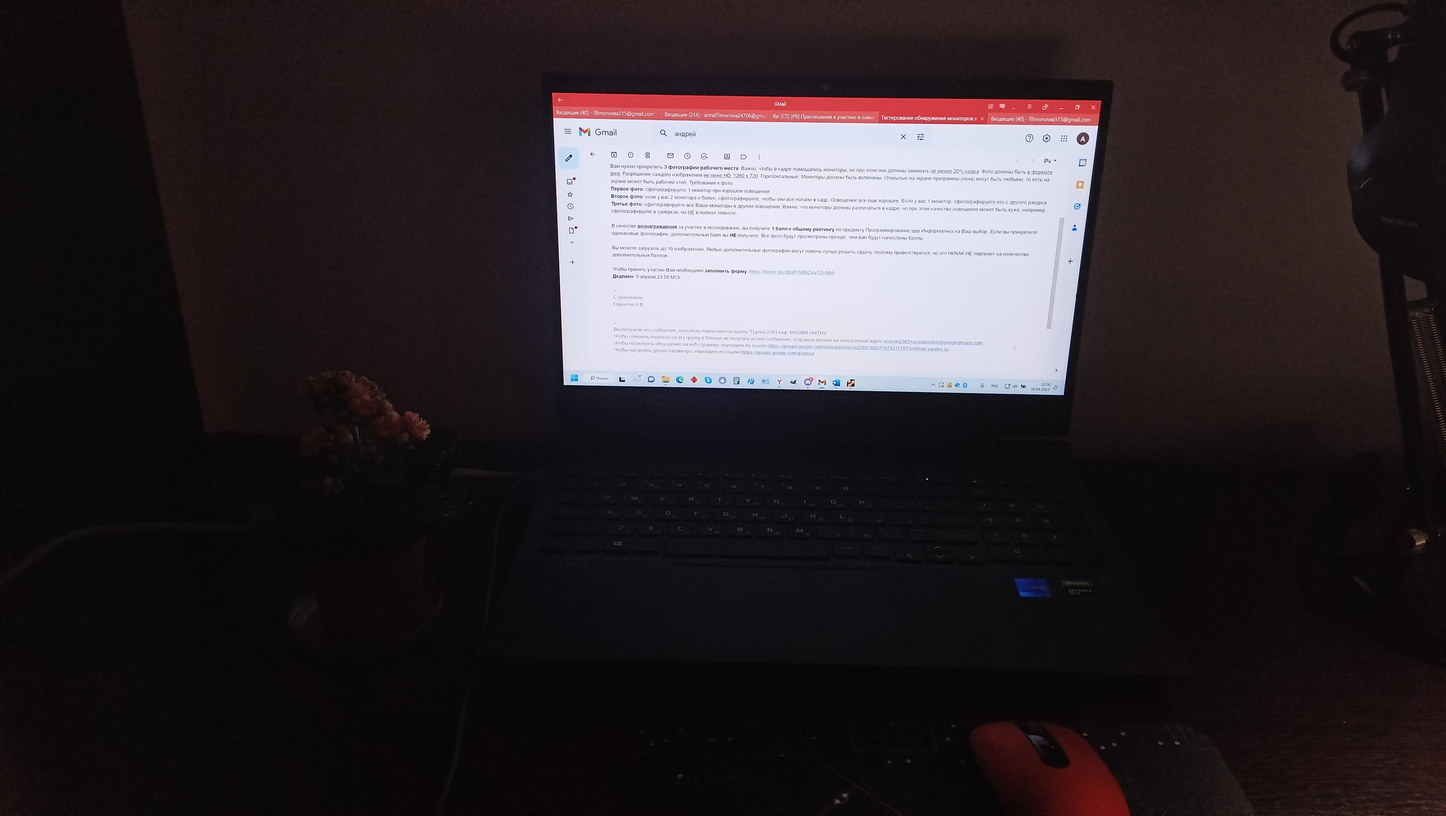monitor: (535, 66, 1116, 444)
